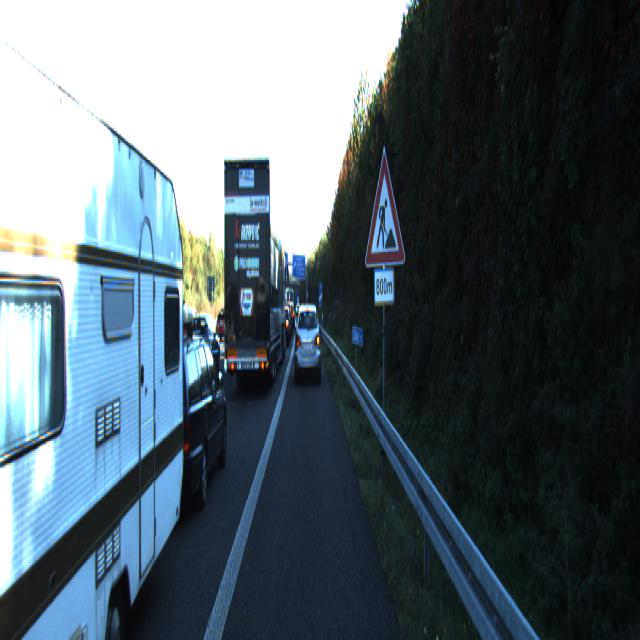Car: (0, 0, 188, 639), (126, 328, 229, 526), (223, 152, 286, 392), (186, 309, 221, 377), (294, 301, 321, 383), (177, 300, 204, 352), (276, 308, 291, 346)
